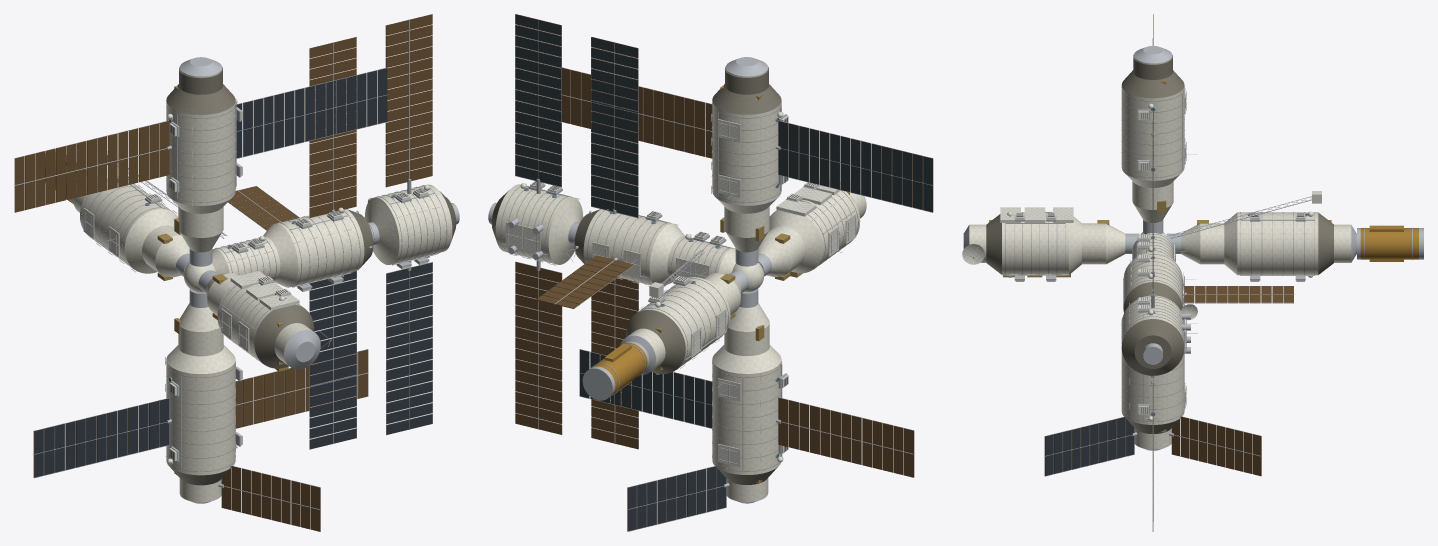
File: mir-atlas.glb
3 views of the same model, side by side, from view 1: azimuth 30°, elevation 25°; view 2: azimuth 150°, elevation 25°; view 3: azimuth 270°, elevation 25° (orthographic). The views are drawn at different scales.
Parts seen in each view (by area): view 1: Kvant-2 solar 0 bronze rear (×15), Spektr / Laboratory cabin, Kvant-2 solar 1 photovoltaic cells (×12), Kvant-2 / Laboratory cabin, Mir core port solar bronze rear (×9), Mir core / Main working compartment, Kvant-1 / Astrophysics compartment, Kristall / Laboratory cabin, Priroda / Laboratory cabin, Priroda / Aft equipment cone, Mir core / Small working compartment, Spektr steerable solar 0 bronze rear (×3) (+16 smaller); view 2: Kvant-2 solar 0 photovoltaic cells (×15), Spektr / Laboratory cabin, Kvant-2 / Laboratory cabin, Spektr steerable solar 1 bronze rear (×10), Kvant-2 solar 1 bronze rear (×8), Kristall / Laboratory cabin, Mir core / Main working compartment, Kvant-1 / Astrophysics compartment, Kristall / Aft equipment cone, Priroda / Laboratory cabin, Priroda / Cabin transition, Kvant-1 / Forward body (+16 smaller); view 3: Kristall / Laboratory cabin, Kvant-2 / Laboratory cabin, Priroda / Laboratory cabin, Spektr / Laboratory cabin, Kvant-1 / Rear conical compartment, Shuttle docking module / Orange insulated pressure shell, Mir core / Main working compartment, Kvant-1 / Astrophysics compartment, Kvant-2 / Aft equipment cone, Kristall / Forward instrumentation, Priroda / Forward instrumentation, Kvant-2 / Forward instrumentation (+11 smaller).
Boxes of the visible parts, left/top/right/bottom form: Kvant-2 solar 0 bronze rear (×15): left=14, top=121, right=169, bottom=212; Spektr / Laboratory cabin: left=166, top=360, right=235, bottom=475; Kvant-2 solar 1 photovoltaic cells (×12): left=243, top=68, right=387, bottom=156; Kvant-2 / Laboratory cabin: left=166, top=101, right=235, bottom=205; Mir core port solar bronze rear (×9): left=309, top=37, right=356, bottom=207; Mir core / Main working compartment: left=275, top=209, right=364, bottom=286; Kvant-1 / Astrophysics compartment: left=375, top=184, right=452, bottom=264; Kristall / Laboratory cabin: left=80, top=178, right=172, bottom=267; Priroda / Laboratory cabin: left=217, top=284, right=301, bottom=362; Priroda / Aft equipment cone: left=254, top=304, right=314, bottom=368; Mir core / Small working compartment: left=214, top=236, right=280, bottom=280; Spektr steerable solar 0 bronze rear (×3): left=253, top=349, right=368, bottom=424; Kvant-2 solar 0 photovoltaic cells (×15): left=778, top=121, right=932, bottom=212; Spektr / Laboratory cabin: left=712, top=360, right=781, bottom=474; Kvant-2 / Laboratory cabin: left=712, top=101, right=781, bottom=205; Spektr steerable solar 1 bronze rear (×10): left=799, top=403, right=914, bottom=477; Kvant-2 solar 1 bronze rear (×8): left=571, top=70, right=704, bottom=156; Kristall / Laboratory cabin: left=638, top=277, right=730, bottom=367; Mir core / Main working compartment: left=583, top=209, right=671, bottom=285; Kvant-1 / Astrophysics compartment: left=495, top=184, right=571, bottom=264; Kristall / Aft equipment cone: left=626, top=310, right=685, bottom=374; Priroda / Laboratory cabin: left=775, top=190, right=860, bottom=266; Priroda / Cabin transition: left=769, top=210, right=823, bottom=273; Kvant-1 / Forward body: left=548, top=197, right=583, bottom=264; Kristall / Laboratory cabin: left=1237, top=212, right=1318, bottom=275; Kvant-2 / Laboratory cabin: left=1121, top=85, right=1184, bottom=180; Priroda / Laboratory cabin: left=1002, top=212, right=1068, bottom=275; Spektr / Laboratory cabin: left=1121, top=320, right=1184, bottom=424; Kvant-1 / Rear conical compartment: left=1121, top=319, right=1184, bottom=375; Shuttle docking module / Orange insulated pressure shell: left=1360, top=228, right=1418, bottom=259; Mir core / Main working compartment: left=1123, top=253, right=1182, bottom=305; Kvant-1 / Astrophysics compartment: left=1121, top=295, right=1184, bottom=346; Kvant-2 / Aft equipment cone: left=1122, top=70, right=1184, bottom=98; Kristall / Forward instrumentation: left=1200, top=223, right=1224, bottom=264; Priroda / Forward instrumentation: left=1082, top=223, right=1105, bottom=264; Kvant-2 / Forward instrumentation: left=1132, top=181, right=1173, bottom=209.
Size of the model in its own units: 32.3 by 30.97 by 32.41.
Materials: 11 (8 with a texture image).
